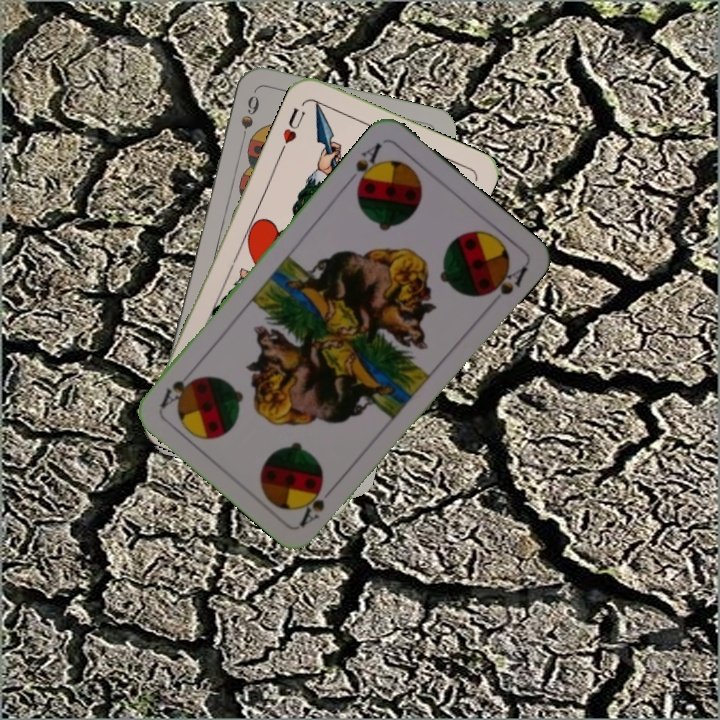HU: (276, 103, 308, 155)
S9: (236, 91, 262, 148)
SA: (342, 138, 385, 193), (295, 480, 340, 529)
